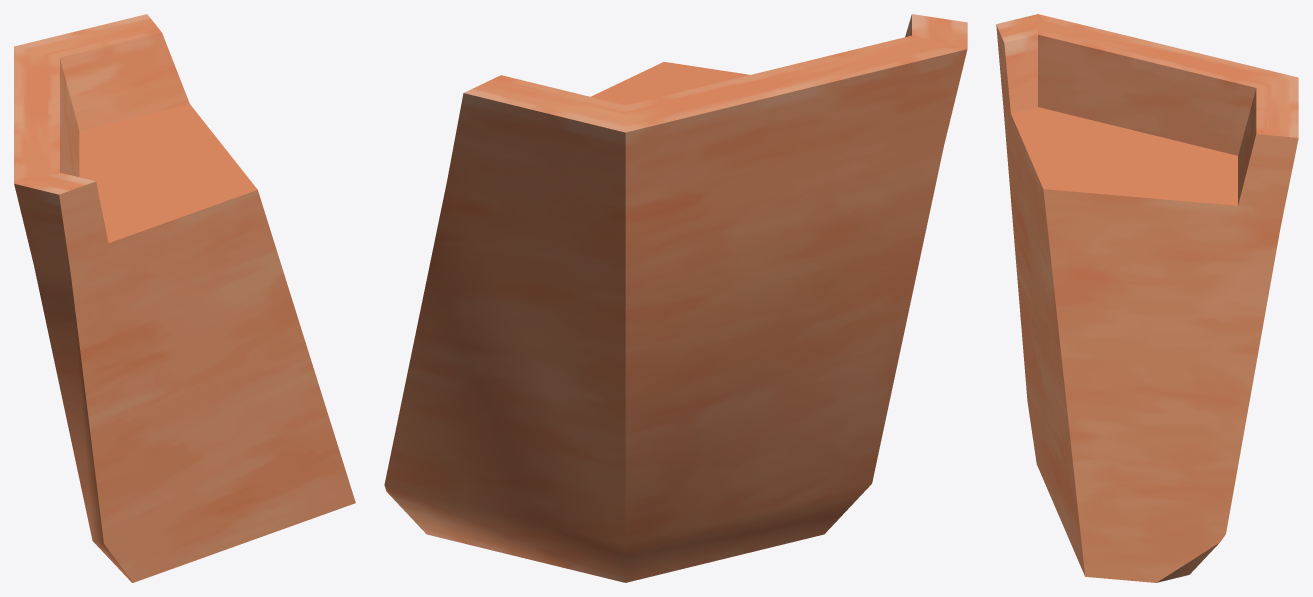
Rendered from potted_plant_s03.fbx.
3 renders of one model, left to right at view 1: azimuth 30°, elevation 25°; view 2: azimuth 150°, elevation 25°; view 3: azimuth 270°, elevation 25°, orthographic. The views are drawn at different scales.
Parts seen in each view (by area): view 1: potted_plant_s03; view 2: potted_plant_s03; view 3: potted_plant_s03.
Part boxes in pixels (x1,y1,x2,y2): potted_plant_s03: [14, 14, 355, 582]; potted_plant_s03: [384, 14, 967, 582]; potted_plant_s03: [996, 14, 1298, 582].
Size of the model in its own units: 1.16 by 1.25 by 0.8641.
